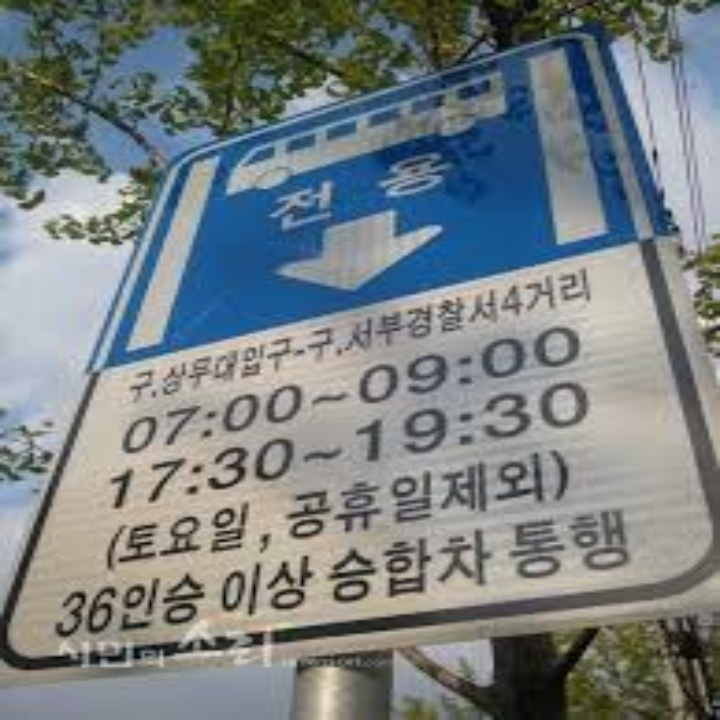bus: (227, 65, 514, 205)
